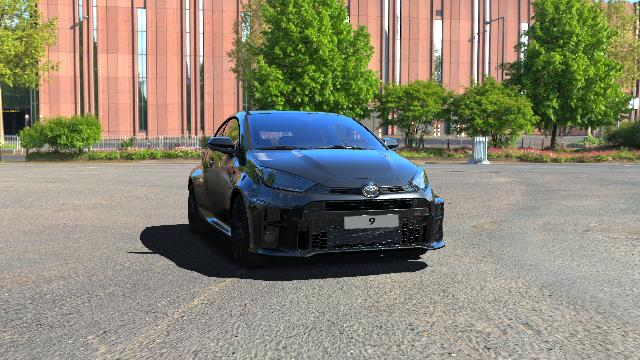License Plate: (346, 214, 398, 230)
